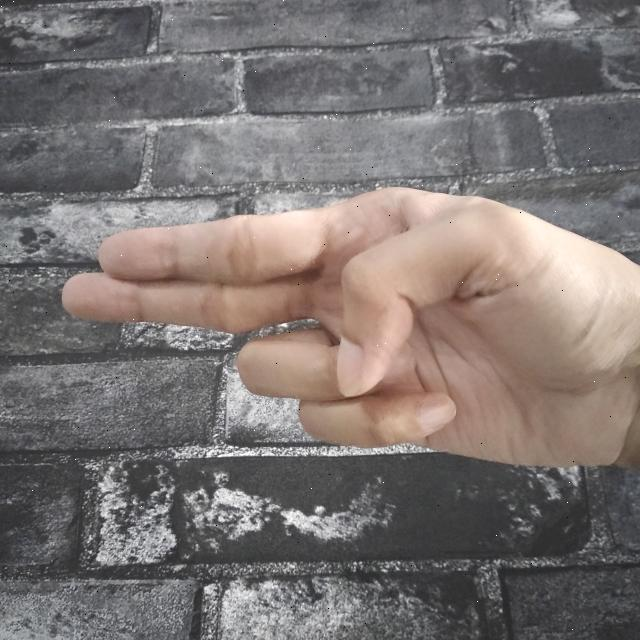H: (48, 174, 640, 486)
